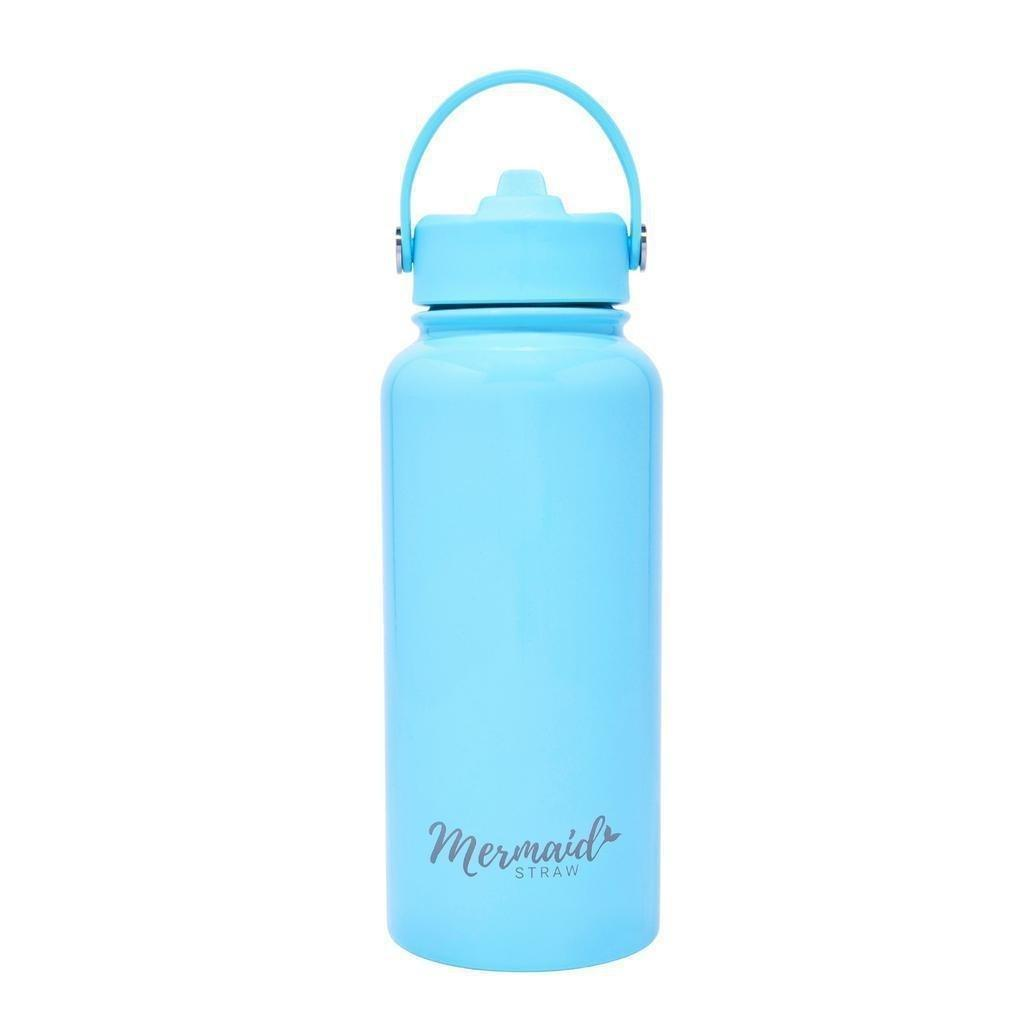gym bottle: (375, 67, 671, 975)
